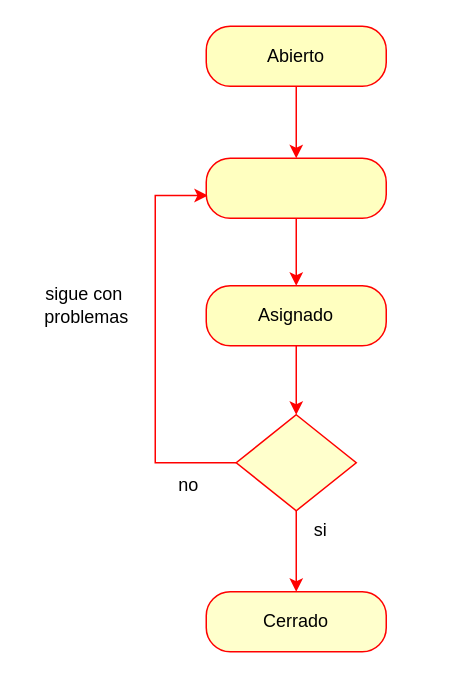
This 458x678 diagram has some shape labels left out. Each missing label, with the centre of its shape:
Análisis: the point at 295,187
Resuelto: the point at 295,462
